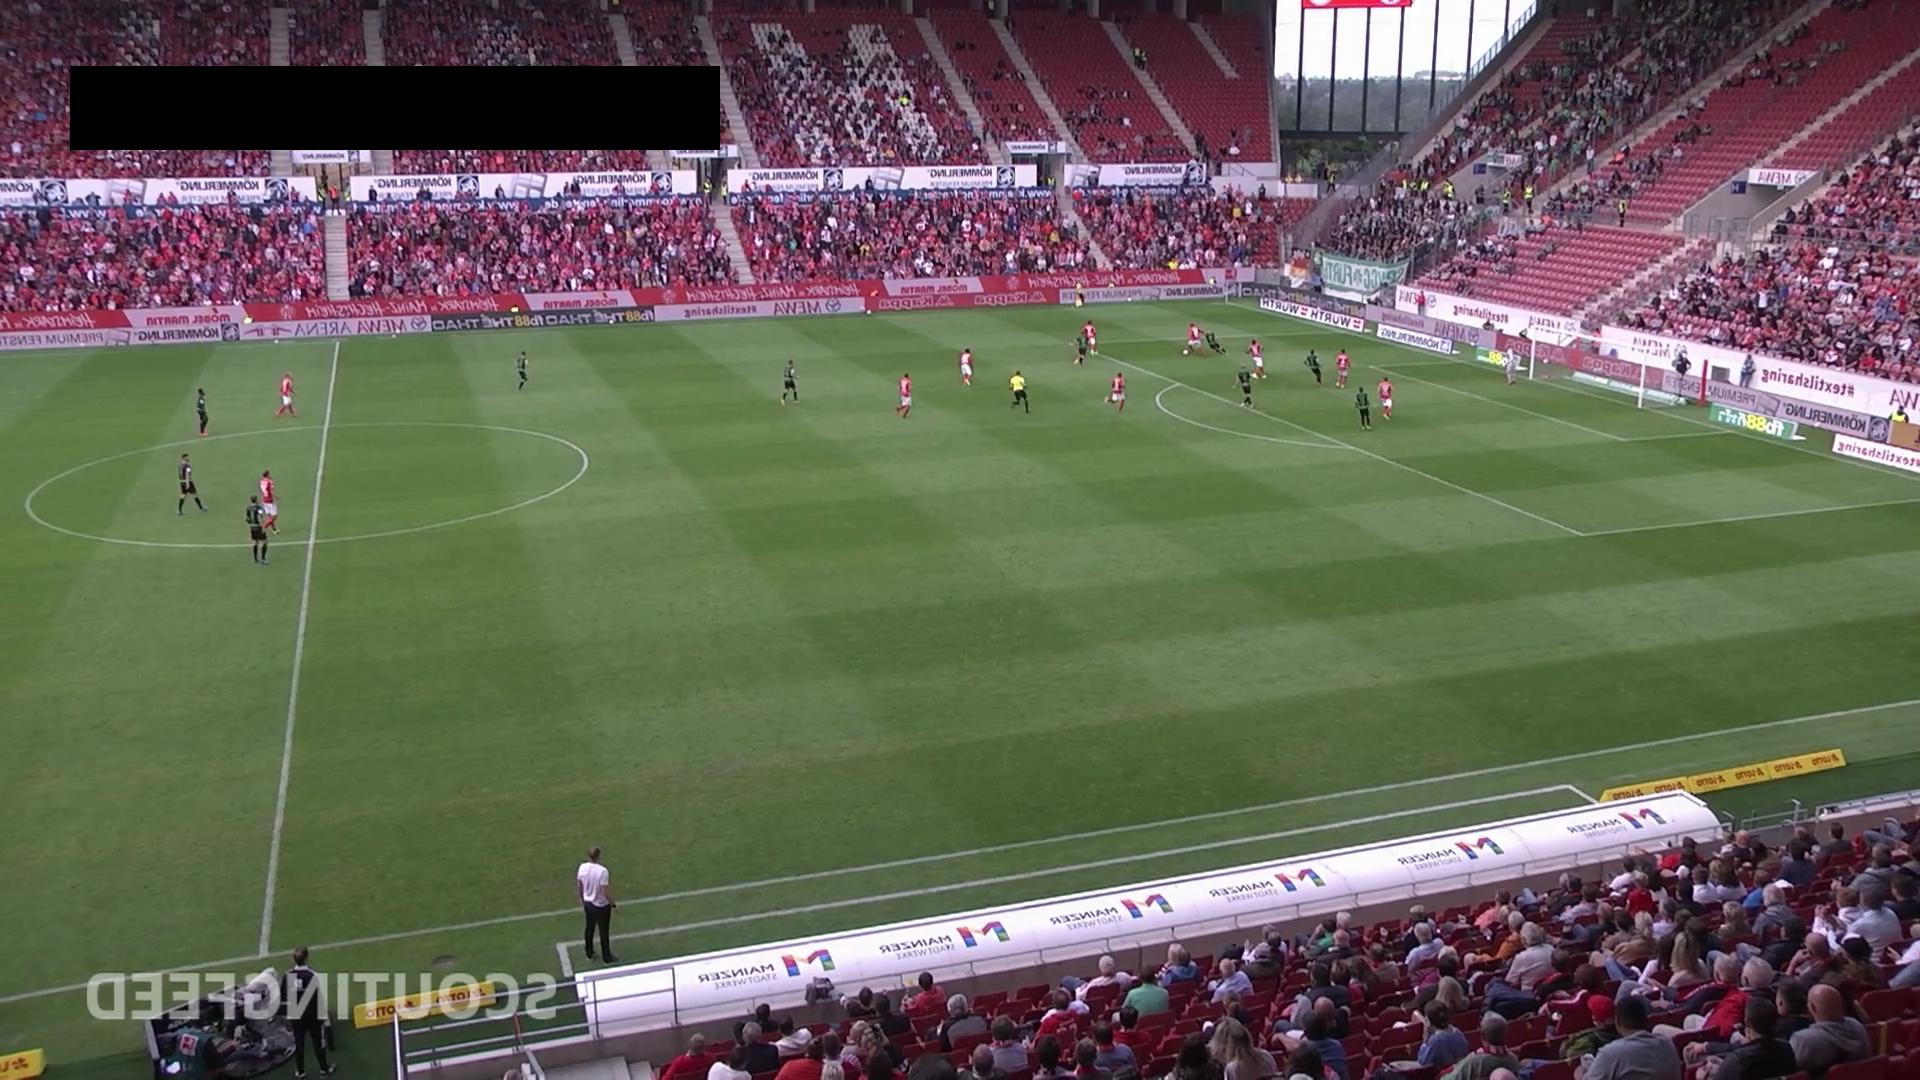ball: (1182, 349, 1188, 357)
goalkeeper: (1503, 346, 1519, 386)
player: (245, 494, 275, 564), (177, 452, 208, 516), (259, 469, 279, 534), (274, 372, 299, 417), (779, 358, 800, 406), (1105, 371, 1126, 413), (1246, 337, 1266, 379), (1235, 367, 1255, 408), (1354, 385, 1372, 430), (896, 372, 913, 419), (1185, 322, 1208, 356), (1377, 375, 1393, 420), (196, 388, 210, 437), (1305, 348, 1323, 385), (1081, 318, 1098, 357), (1335, 348, 1351, 389), (515, 350, 530, 392), (959, 347, 974, 387), (1204, 329, 1226, 356), (1072, 335, 1086, 366)
referee: (1008, 369, 1030, 413), (1073, 279, 1086, 309)
